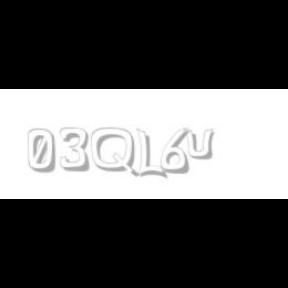0: (28, 128, 58, 174)
3: (60, 128, 91, 172)
6: (160, 128, 189, 176)
L: (137, 128, 165, 180)
Q: (91, 128, 137, 178)
u: (182, 128, 217, 160)
